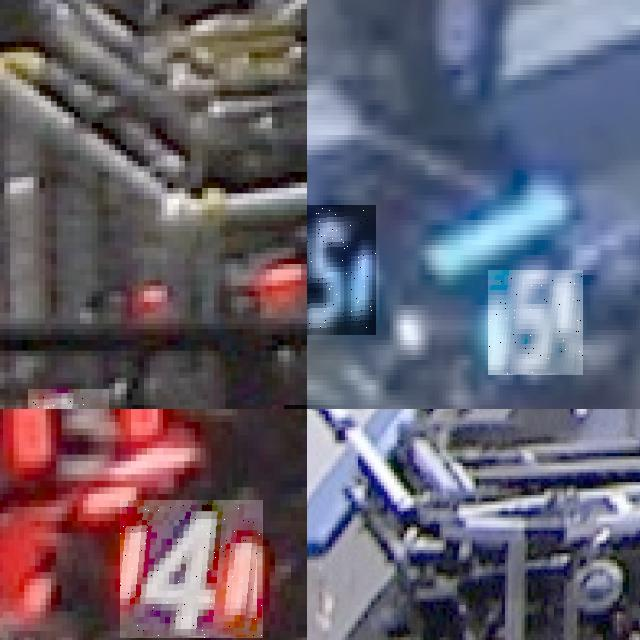B5: (488, 270, 583, 375), (307, 205, 375, 335)
R2: (27, 389, 109, 409)
R3: (2, 409, 168, 487)
R4: (120, 500, 264, 638)
